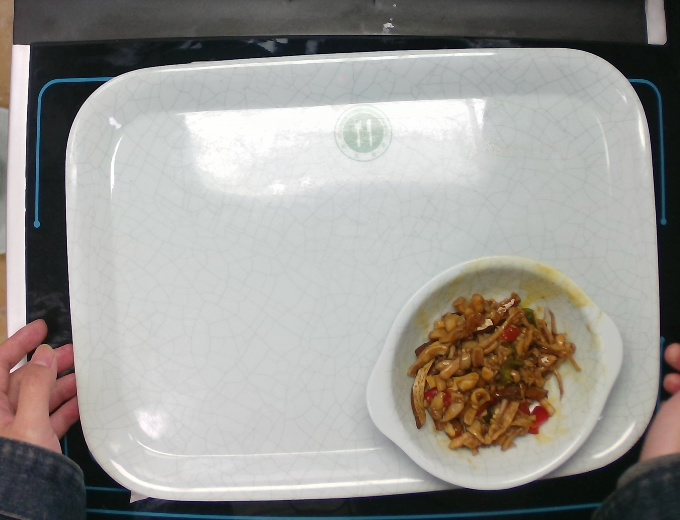JYsf-Shuang_Er_Wan: (362, 253, 626, 492)
